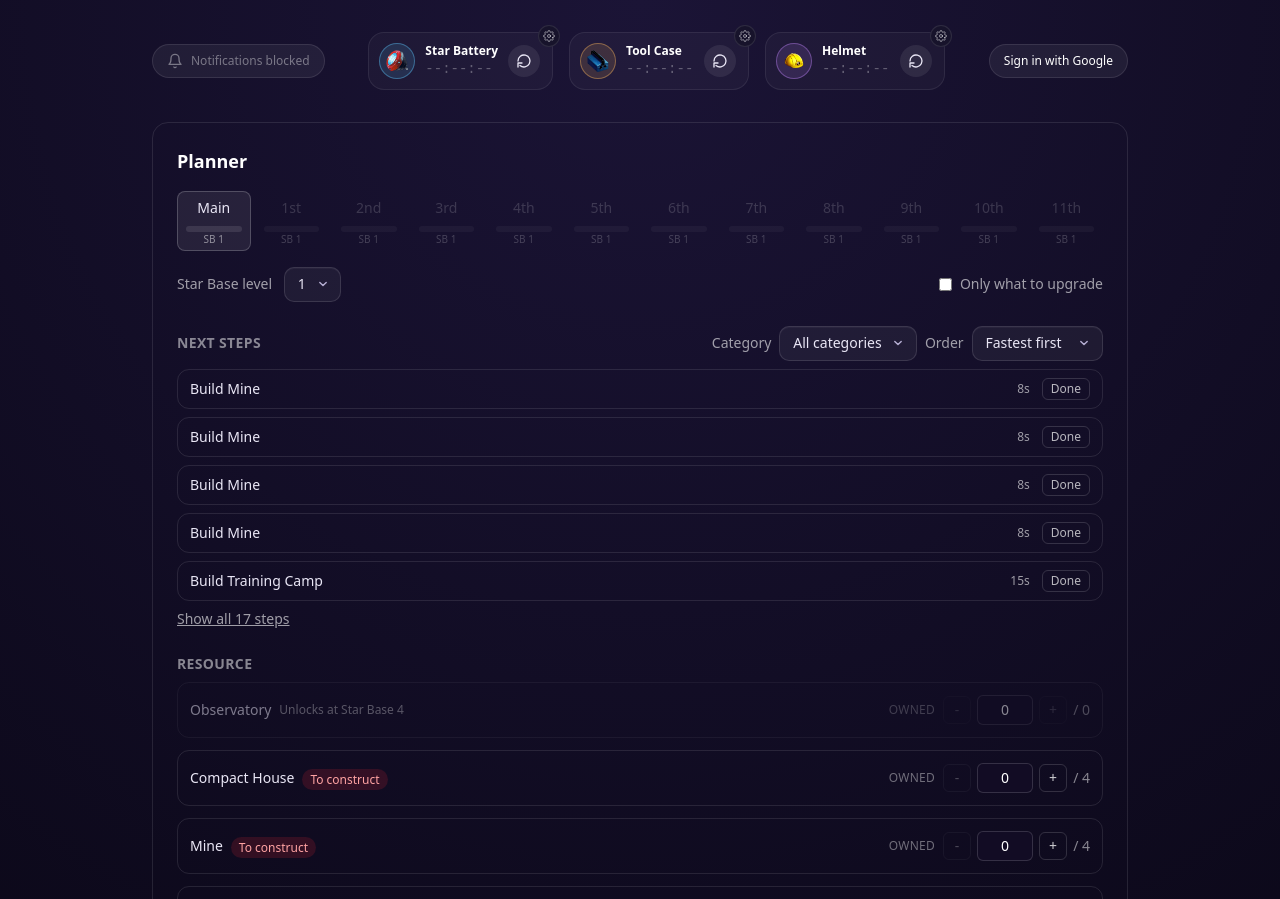
Test: App › advanced settings, manual Ready date editor › saves a valid date and shows the matching Ready date
Click the button named "Advanced settings for Star Battery".
click(549, 36)  # box [538, 25, 560, 47]
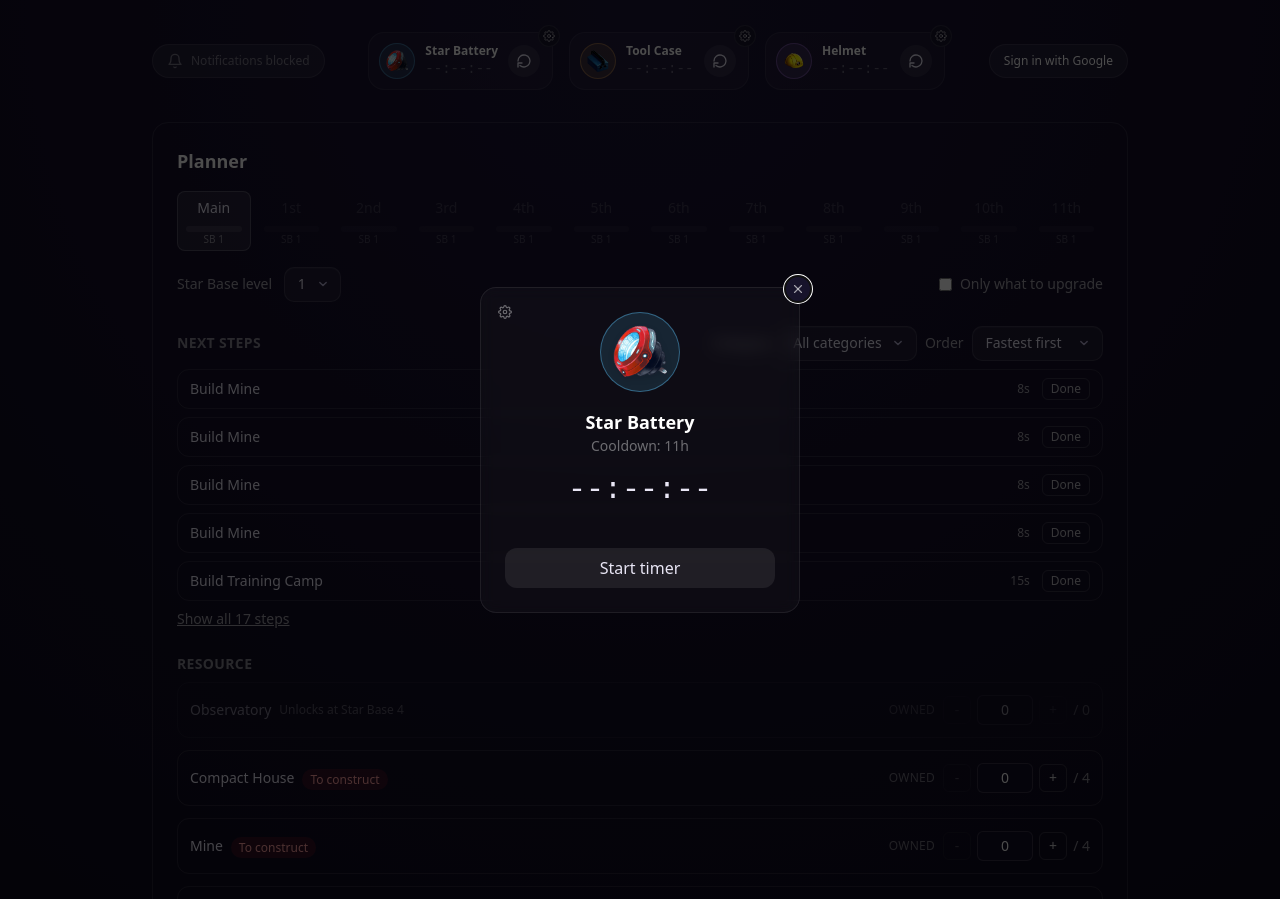
Click the button named "Set Star Battery Ready date manually".
click(505, 312)  # box [493, 300, 517, 324]
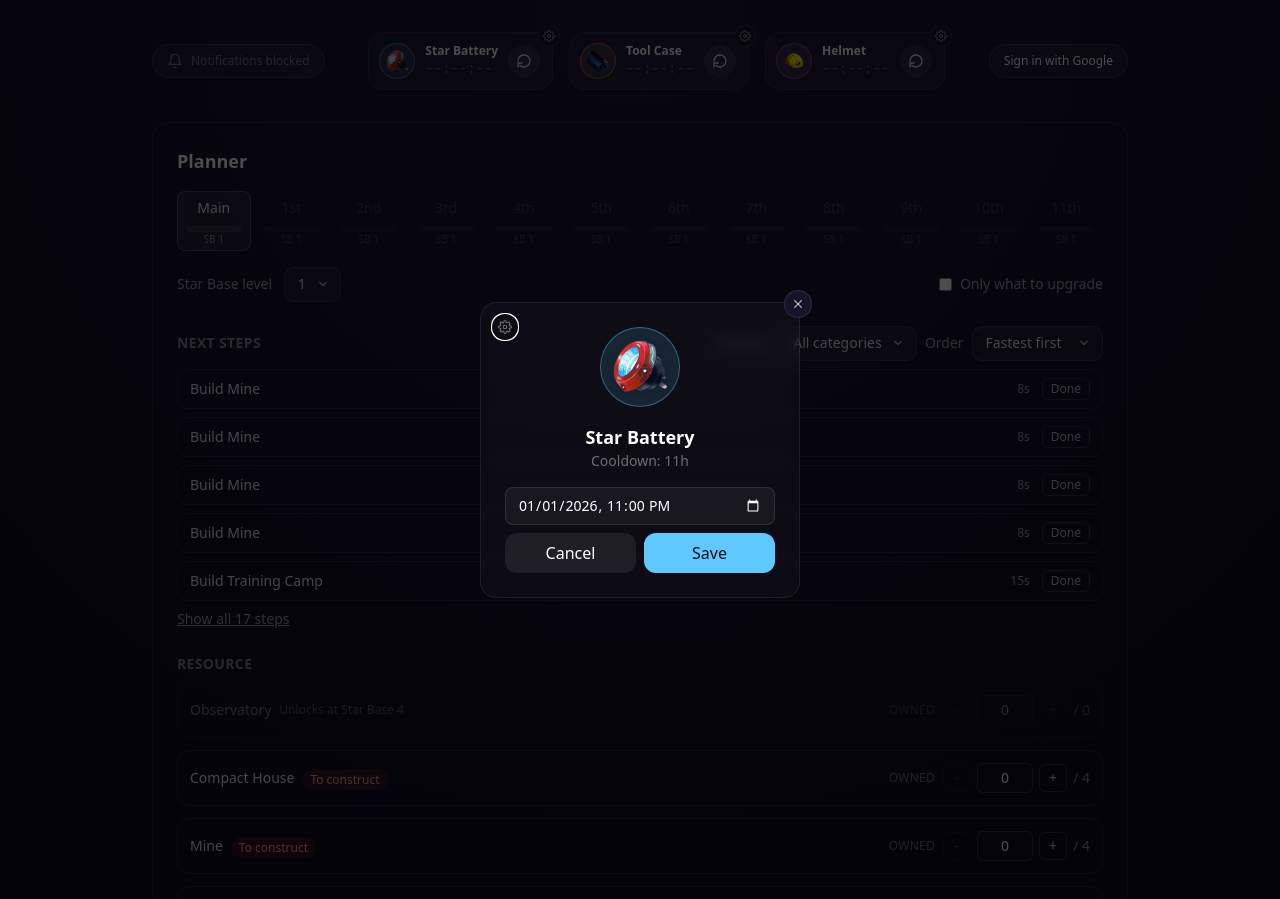
Replace the text in the field with "2026-01-01T18:30" at (640, 506), box [505, 487, 775, 525]
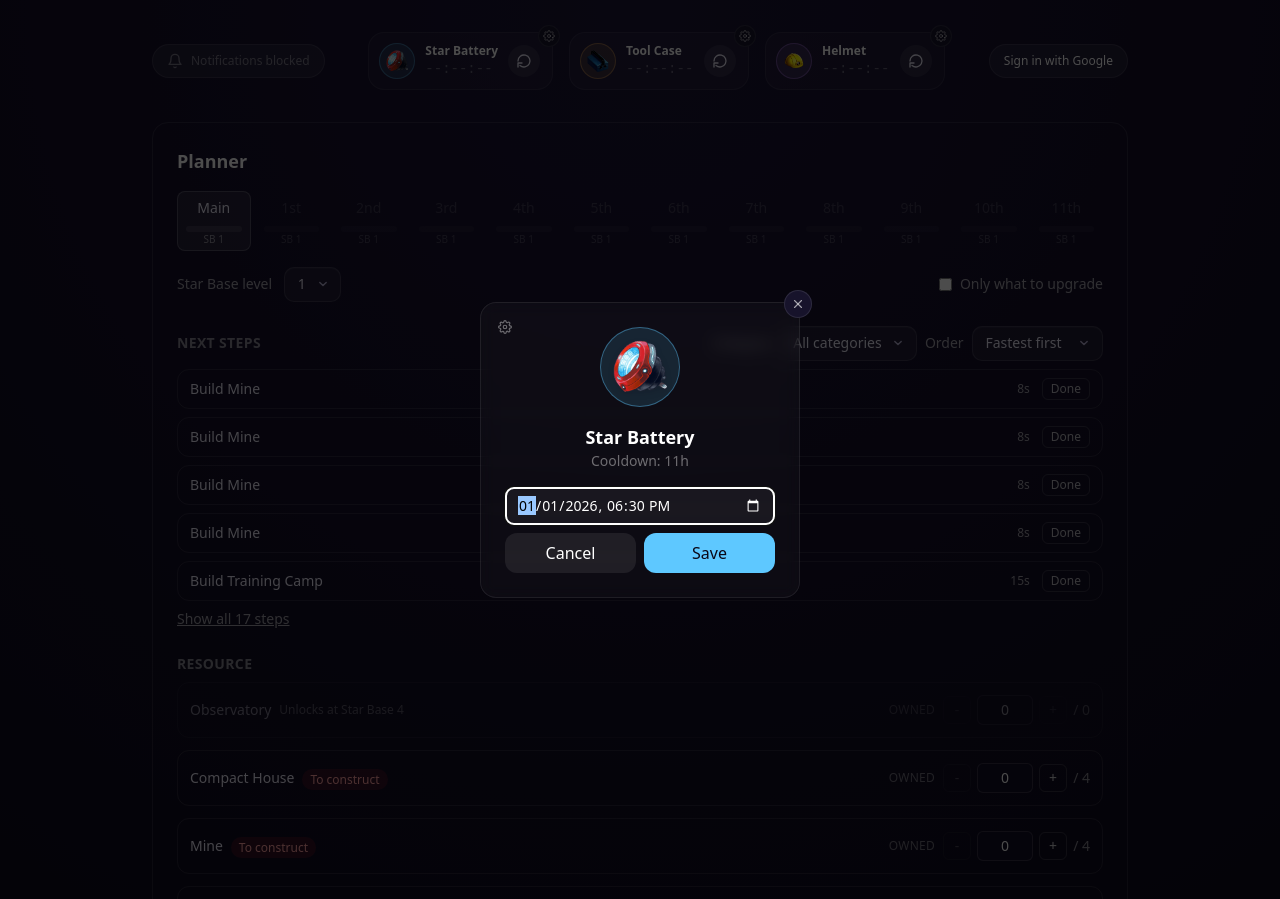
Click the button "Save".
click(710, 553)  # box [644, 533, 775, 573]
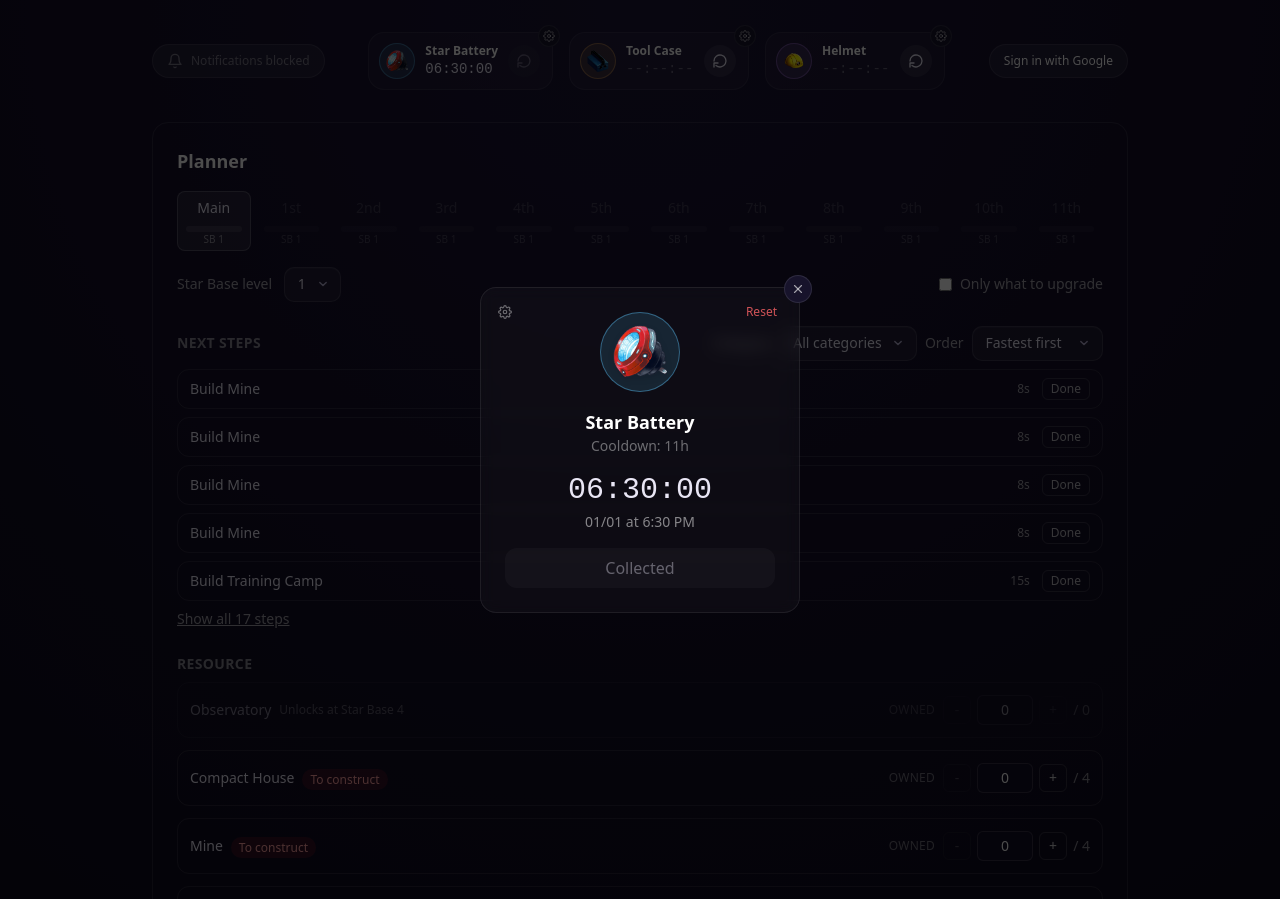
Result: the text "06:30:00" is shown at [568, 472, 712, 508]
Result: the text "01/01 at 6:30 PM" is shown at [585, 512, 695, 531]
